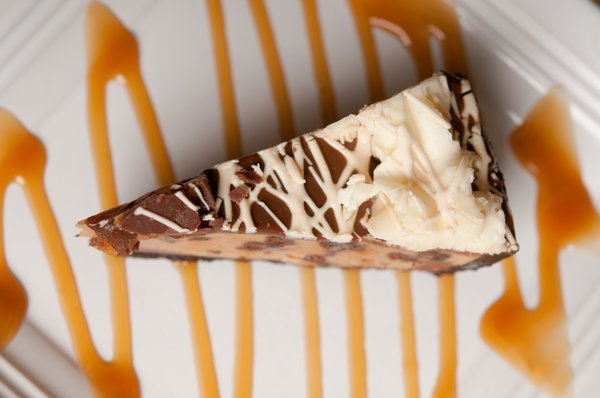sushi: (17, 47, 519, 275)
